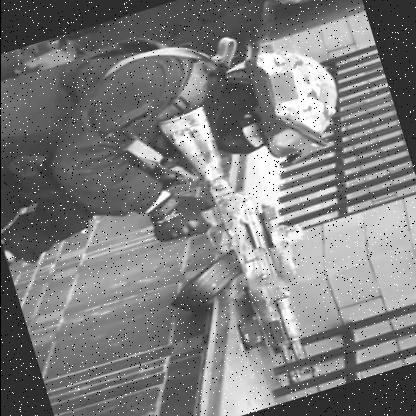rifle: (122, 89, 336, 407)
